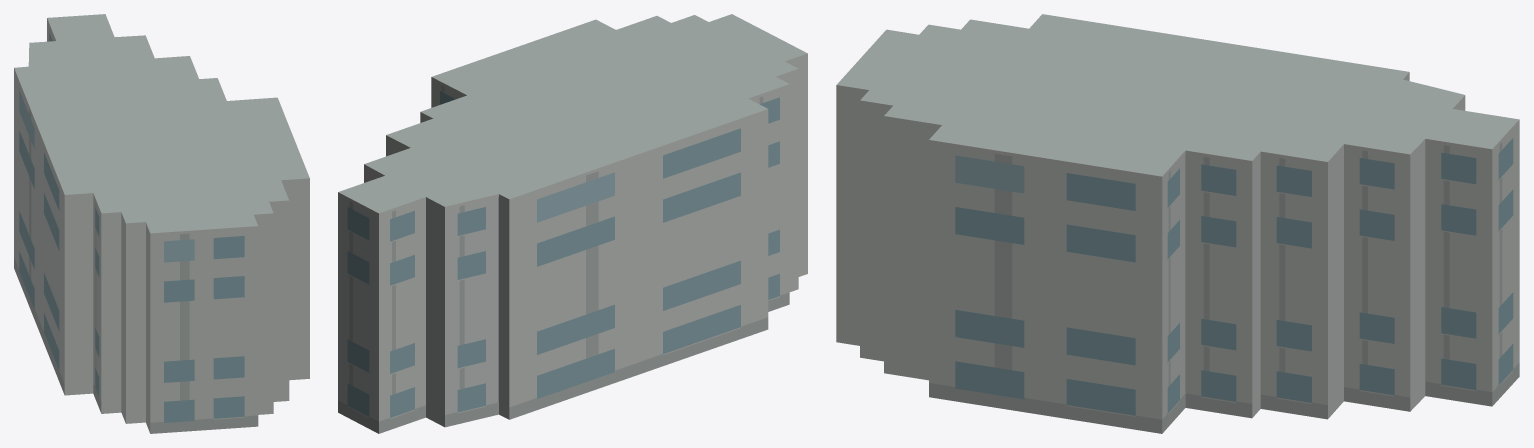
The model's file is survey-upis-32492925.glb.
3 renders of one model, left to right at view 1: azimuth 30°, elevation 25°; view 2: azimuth 150°, elevation 25°; view 3: azimuth 270°, elevation 25°, orthographic. The views are drawn at different scales.
Visible parts, largest first — view 1: survey-upis-32492925.tmp; view 2: survey-upis-32492925.tmp; view 3: survey-upis-32492925.tmp.
Boxes of the visible parts, x1,y1,x2,y2 form: survey-upis-32492925.tmp: (14, 14, 309, 433); survey-upis-32492925.tmp: (338, 14, 807, 433); survey-upis-32492925.tmp: (836, 14, 1519, 433).
Size of the model in its own units: 24.34 by 17.95 by 43.19.
